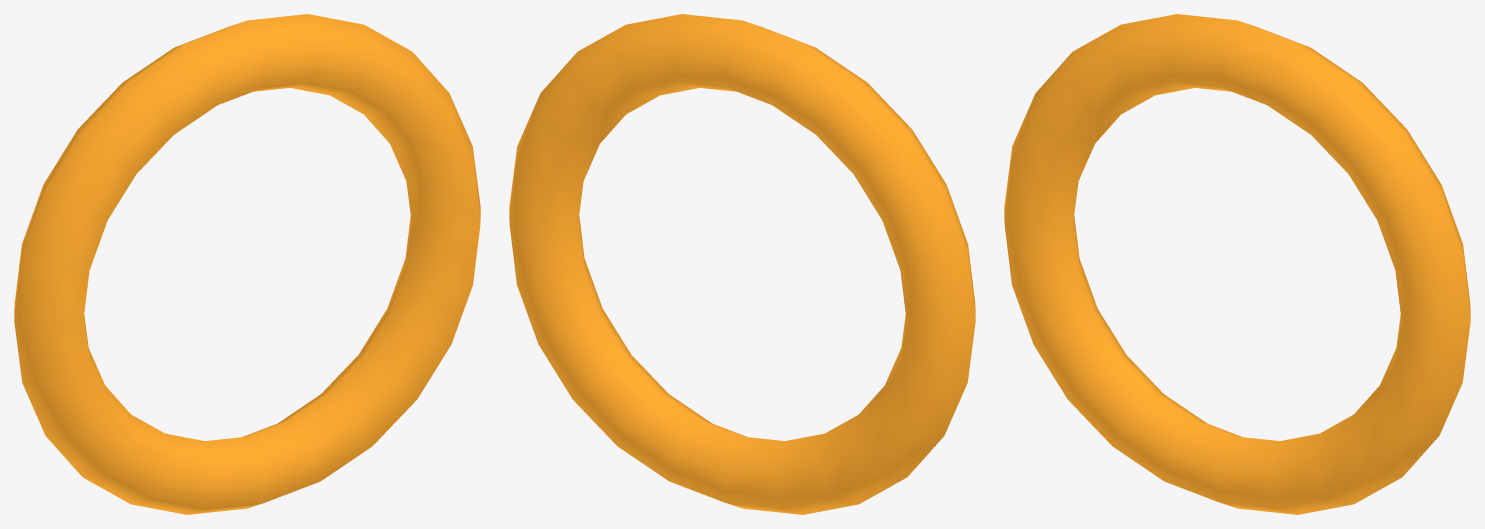
Rendered from ring_001.glb.
The picture shows the model from 3 angles, left to right: view 1: azimuth 30°, elevation 25°; view 2: azimuth 150°, elevation 25°; view 3: azimuth 330°, elevation 25°; orthographic projection.
Parts seen in each view (by area): view 1: ring_001; view 2: ring_001; view 3: ring_001.
Boxes of the visible parts, x1,y1,x2,y2 form: ring_001: [14, 14, 480, 514]; ring_001: [509, 14, 975, 514]; ring_001: [1004, 14, 1470, 514].
Bounding box in the file's own units: 1.34 × 1.34 × 0.1722.
Materials: 1 (1 with a texture image).
